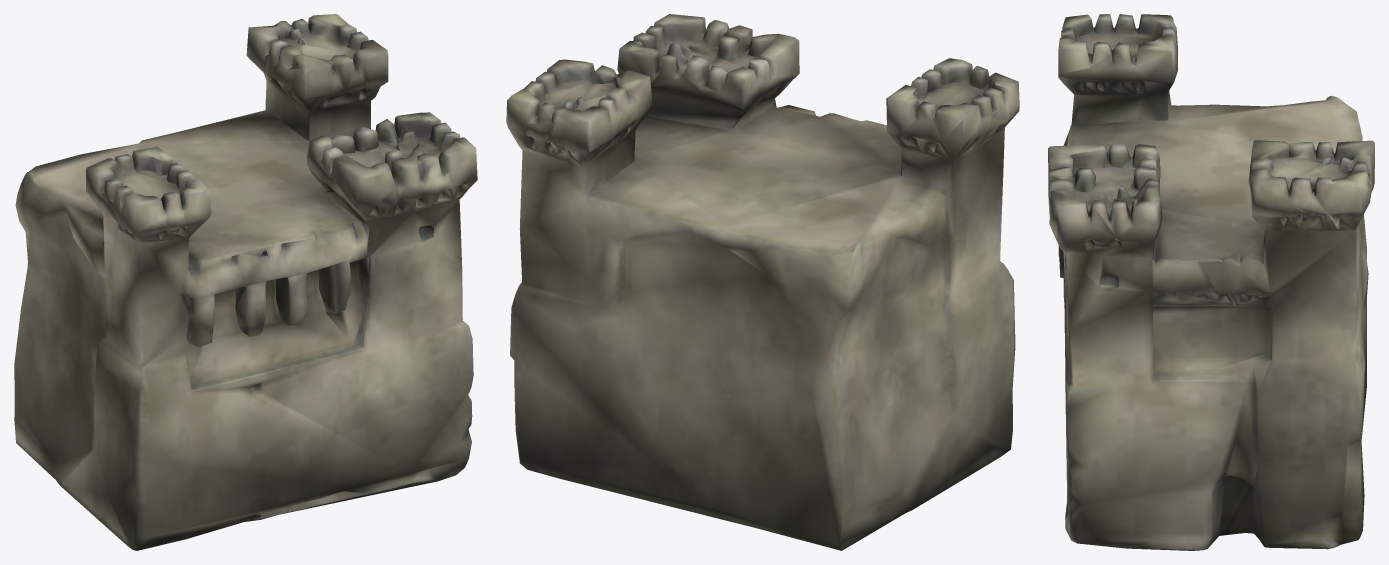
The model's file is sturdy-limestone-battlement-wall-v001.glb.
3 renders of one model, left to right at view 1: azimuth 30°, elevation 25°; view 2: azimuth 150°, elevation 25°; view 3: azimuth 270°, elevation 25°, orthographic. The views are drawn at different scales.
Visible parts, largest first — view 1: sturdy-limestone-battlement-wall; view 2: sturdy-limestone-battlement-wall; view 3: sturdy-limestone-battlement-wall.
Part boxes in pixels (x1,y1,x2,y2): sturdy-limestone-battlement-wall: (14, 14, 477, 550); sturdy-limestone-battlement-wall: (506, 14, 1019, 550); sturdy-limestone-battlement-wall: (1048, 14, 1374, 550).
Bounding box in the file's own units: 2.4 × 2.35 × 1.87.
Materials: 1 (1 with a texture image).
